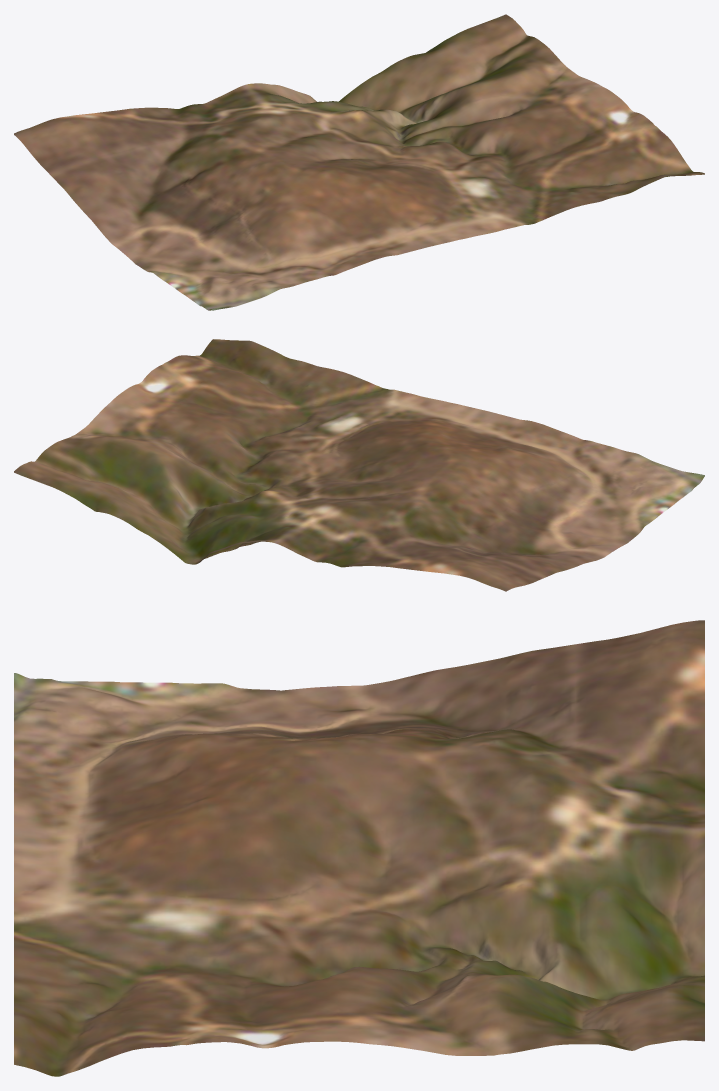
The model's file is terrain_r1_c2.glb.
3 views of the same model, one above another, from view 1: azimuth 30°, elevation 25°; view 2: azimuth 150°, elevation 25°; view 3: azimuth 270°, elevation 25° (orthographic). The views are drawn at different scales.
Visible parts, largest first — view 1: terrain_r1_c2_lod0; view 2: terrain_r1_c2_lod0; view 3: terrain_r1_c2_lod0.
Part boxes in pixels (x1=…): terrain_r1_c2_lod0: x1=14, y1=14, x2=704, y2=310; terrain_r1_c2_lod0: x1=14, y1=339, x2=704, y2=591; terrain_r1_c2_lod0: x1=14, y1=620, x2=704, y2=1076.
Bounding box in the file's own units: 1125 × 125 × 787.
Materials: 1 (1 with a texture image).
